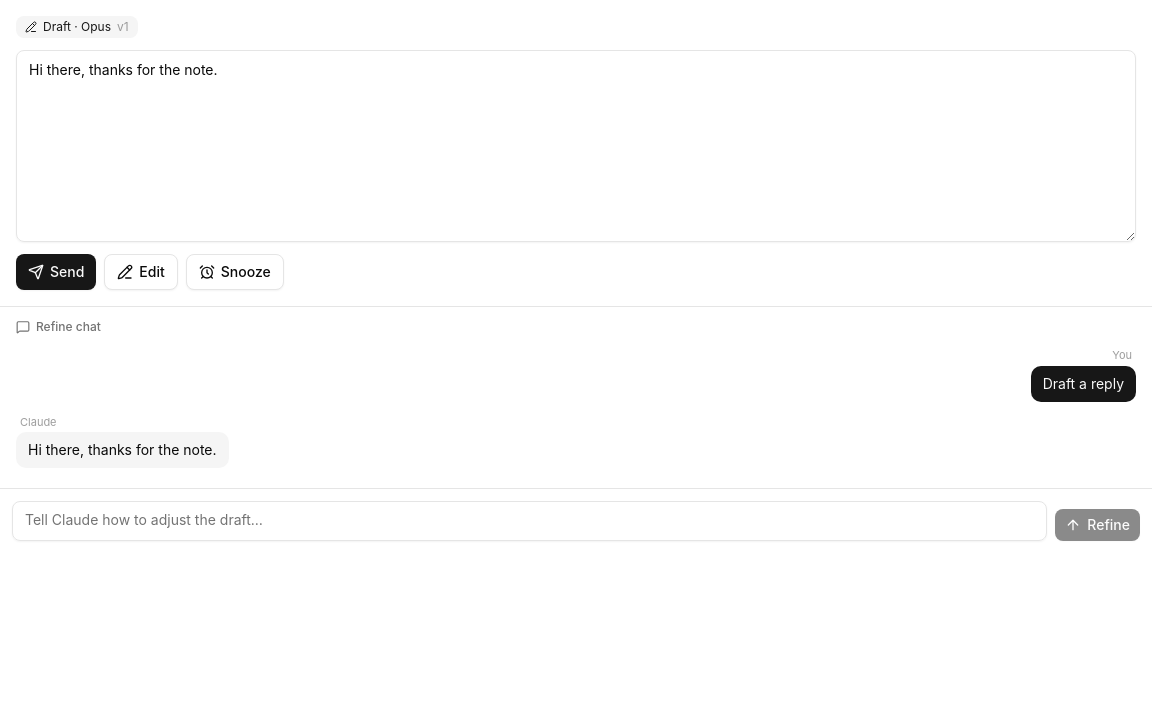
Test: DraftPane — Send posts the EDITED body (golden rule #1, manual send) › Send is disabled when the edited body is emptied (cannot send an empty reply)
The image size is (1152, 720).
Clear the text box named "Draft reply": (576, 146) [16,50,1136,242]
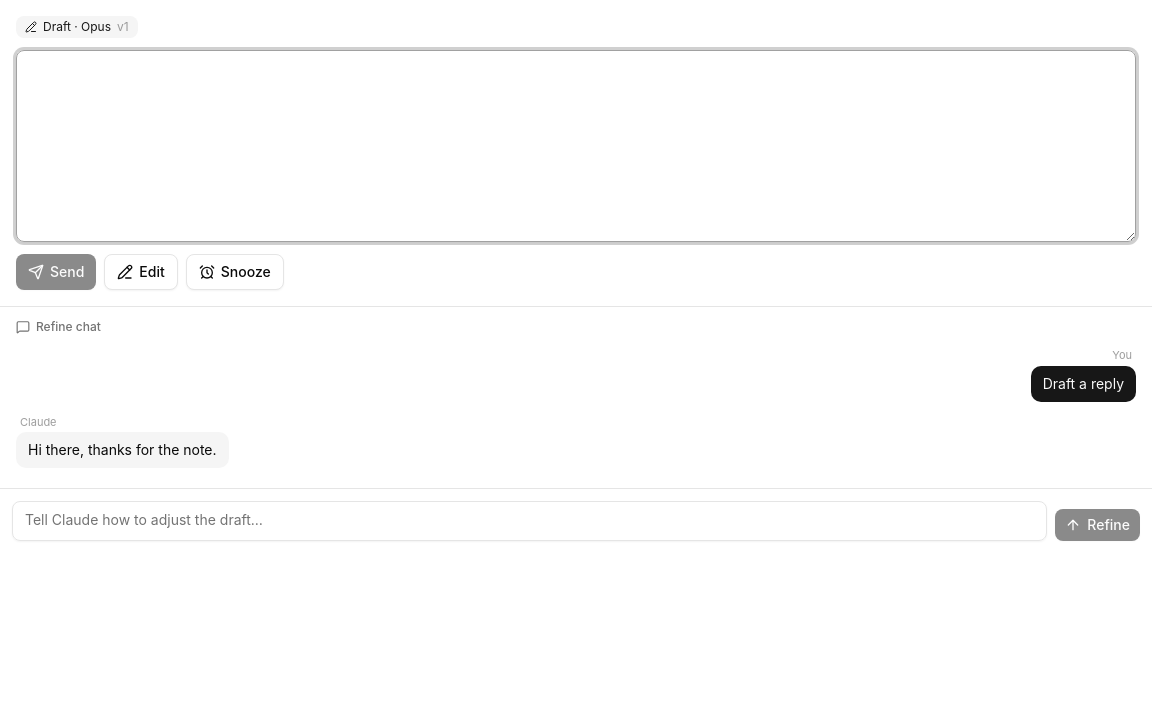
Check: the button "Send" is disabled, box [16,254,96,290]
